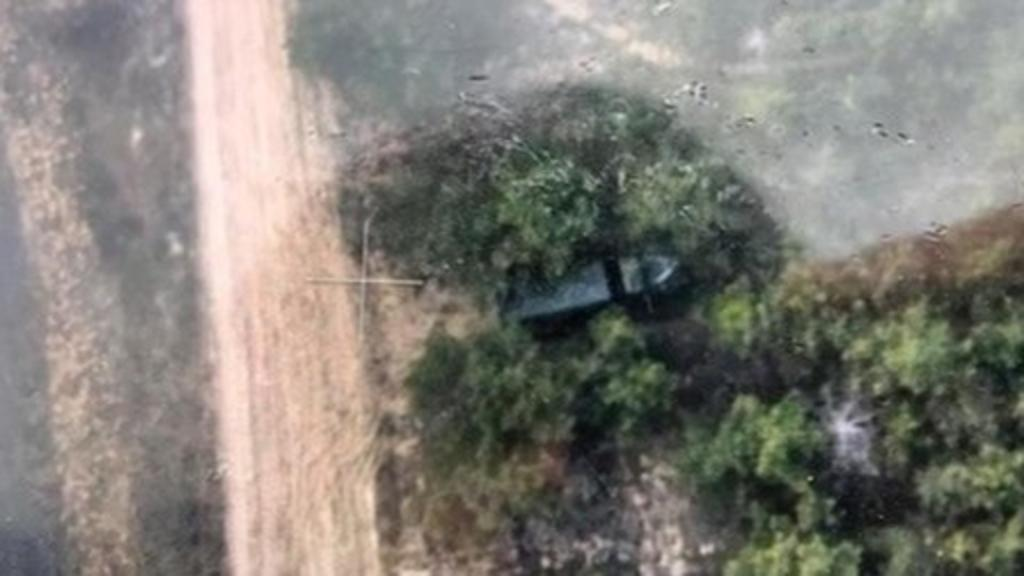TRUCK: (496, 228, 696, 334)
